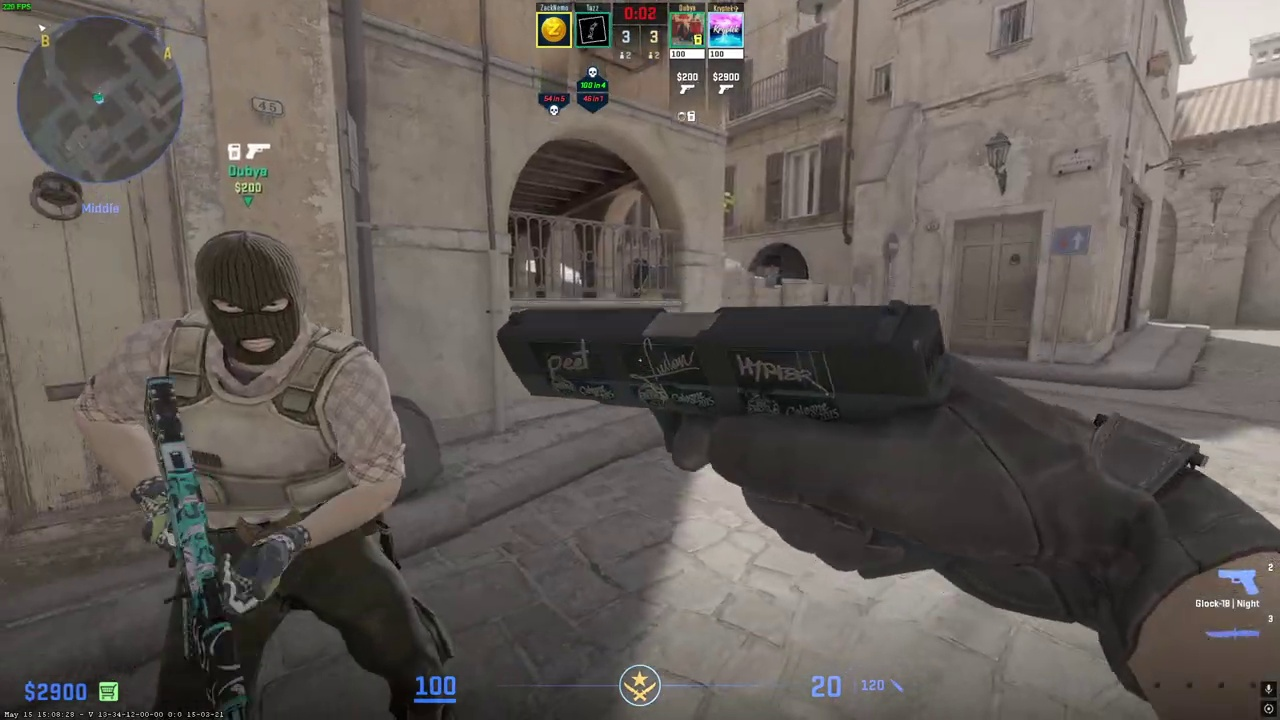Terrorist: (110, 228, 459, 720)
